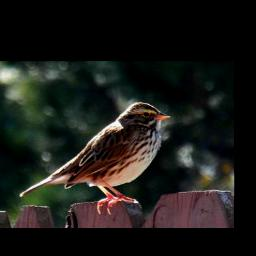Sparrow: (20, 100, 173, 213)
